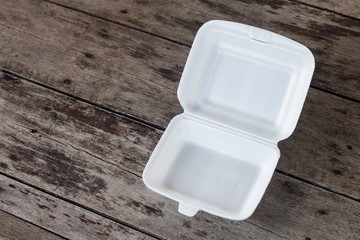styrofoam: (141, 19, 316, 223)
